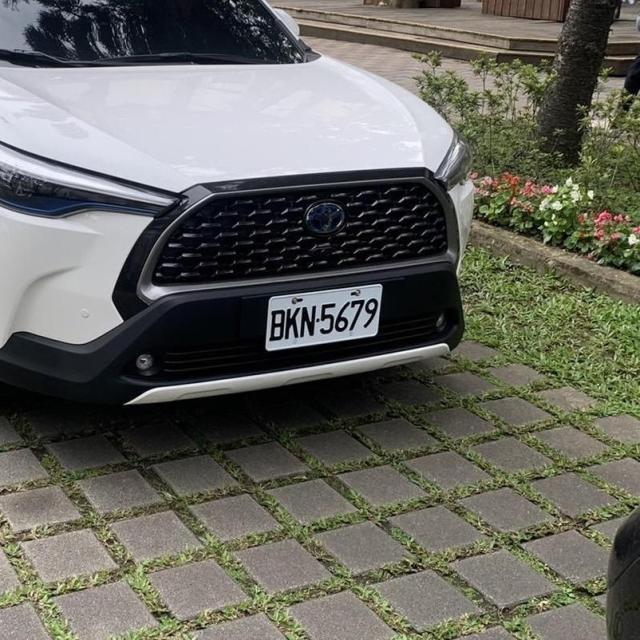W: (259, 278, 386, 354)
